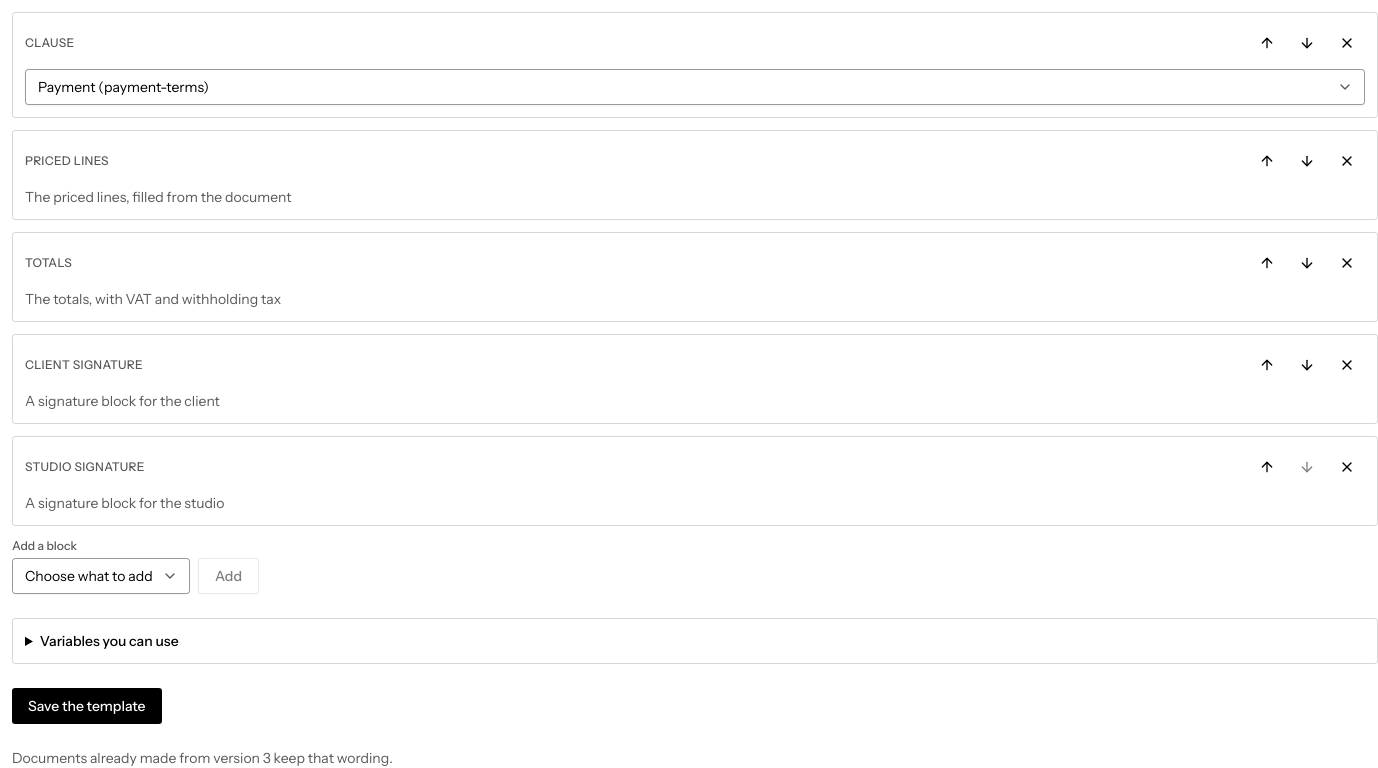
it: TemplateEditor › shows the server’s reason when a variable is unknown
(page scrolled)
Click the button "Save the template" at coordinates (87, 706), box [12,688,162,724]
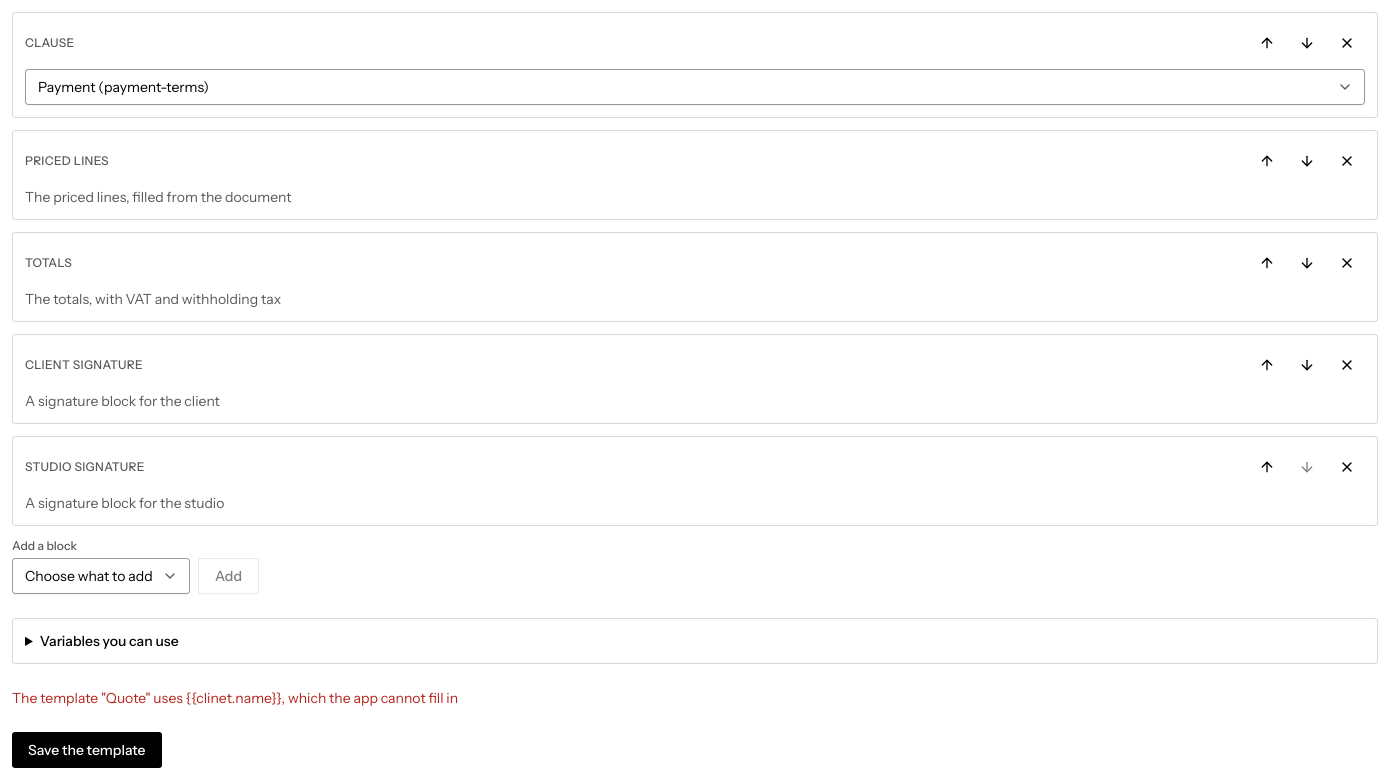
Expected: the message shows "{{clinet.name}}", [12,689,458,707]
